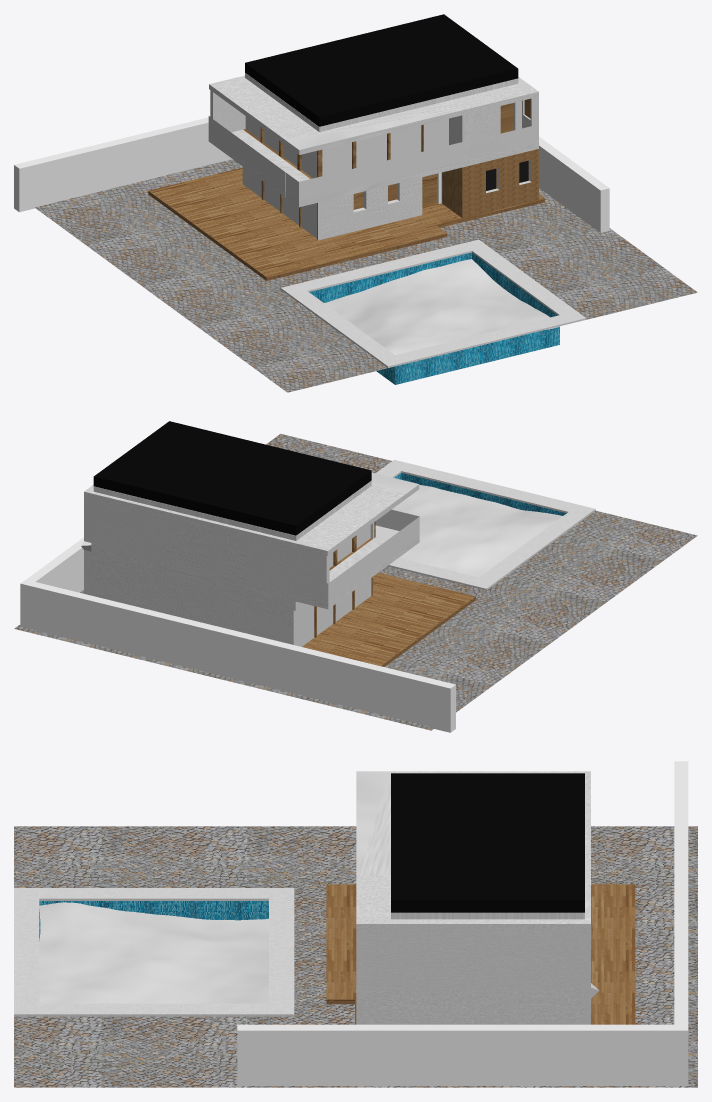
Rendered from modern_minimalist_house_2.glb.
3 views of the same model, one above another, from view 1: azimuth 30°, elevation 25°; view 2: azimuth 150°, elevation 25°; view 3: azimuth 270°, elevation 25° (orthographic). The views are drawn at different scales.
Parts seen in each view (by area): view 1: Plane.001, Cube, Cube.001, Plane, Cube.002, Plane.002, Cube.004; view 2: Cube, Plane.001, Cube.002, Cube.001, Plane.002, Plane, Cube.004; view 3: Plane.001, Cube.002, Cube, Cube.001, Plane.002, Plane, Cube.004.
Boxes of the visible parts, x1,y1,x2,y2 form: Plane.001: (34, 159, 697, 392); Cube: (208, 75, 538, 240); Cube.001: (245, 14, 518, 126); Plane: (148, 167, 544, 280); Cube.002: (14, 117, 609, 232); Plane.002: (324, 259, 559, 355); Cube.004: (245, 73, 518, 131); Cube: (81, 472, 419, 646); Plane.001: (14, 433, 697, 730); Cube.002: (20, 537, 455, 732); Cube.001: (93, 421, 371, 535); Plane.002: (392, 485, 562, 577); Plane: (302, 572, 475, 666); Cube.004: (93, 480, 371, 540); Plane.001: (14, 826, 697, 1087); Cube.002: (237, 761, 688, 1085); Cube: (356, 771, 599, 1024); Cube.001: (391, 773, 584, 912); Plane.002: (39, 902, 268, 1003); Plane: (326, 884, 635, 1024); Cube.004: (391, 912, 584, 919).
Bounding box in the file's own units: 31.03 × 10.79 × 33.11.
Materials: 13 (4 with a texture image).
